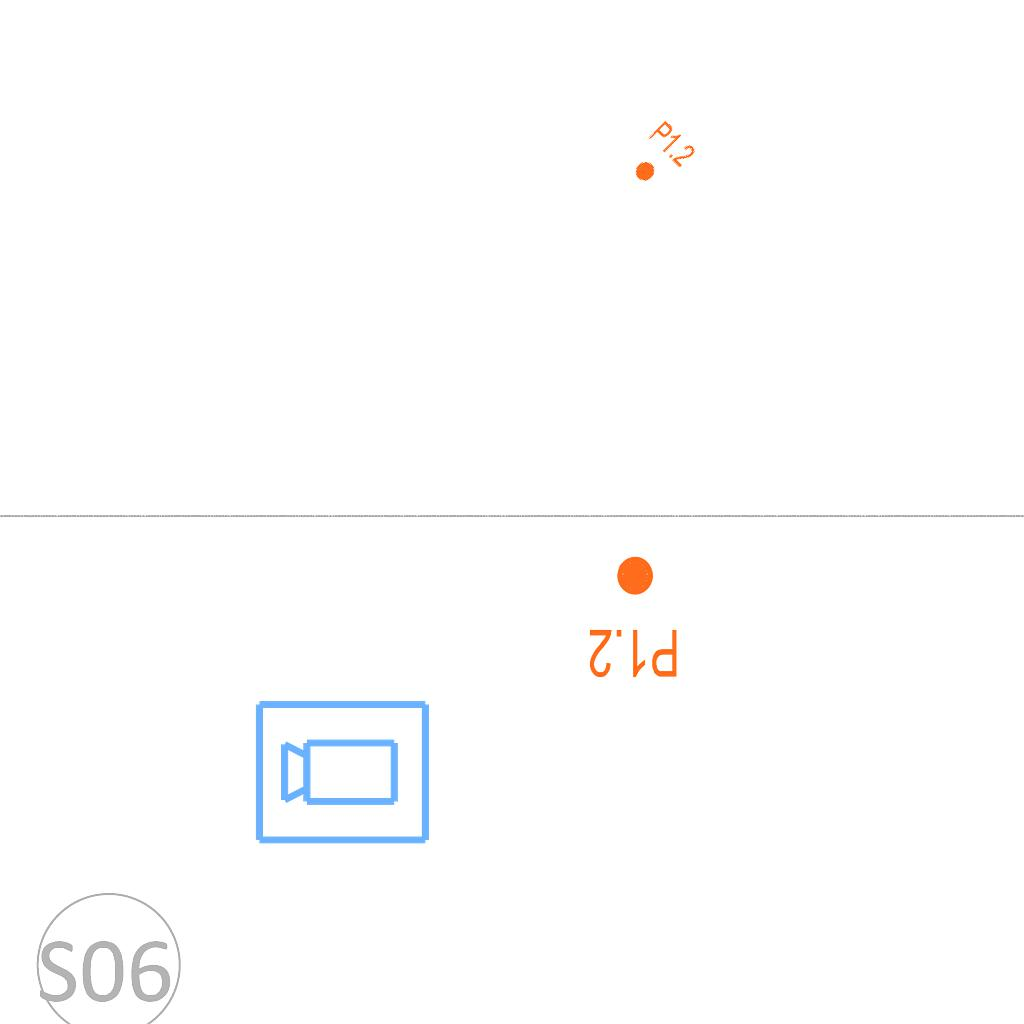Downlight_LED_Einbauleuchten_Flur: (587, 553, 680, 681), (621, 118, 699, 196)
KFO_Kamera_mit_Festobjektiv: (252, 694, 434, 848)
